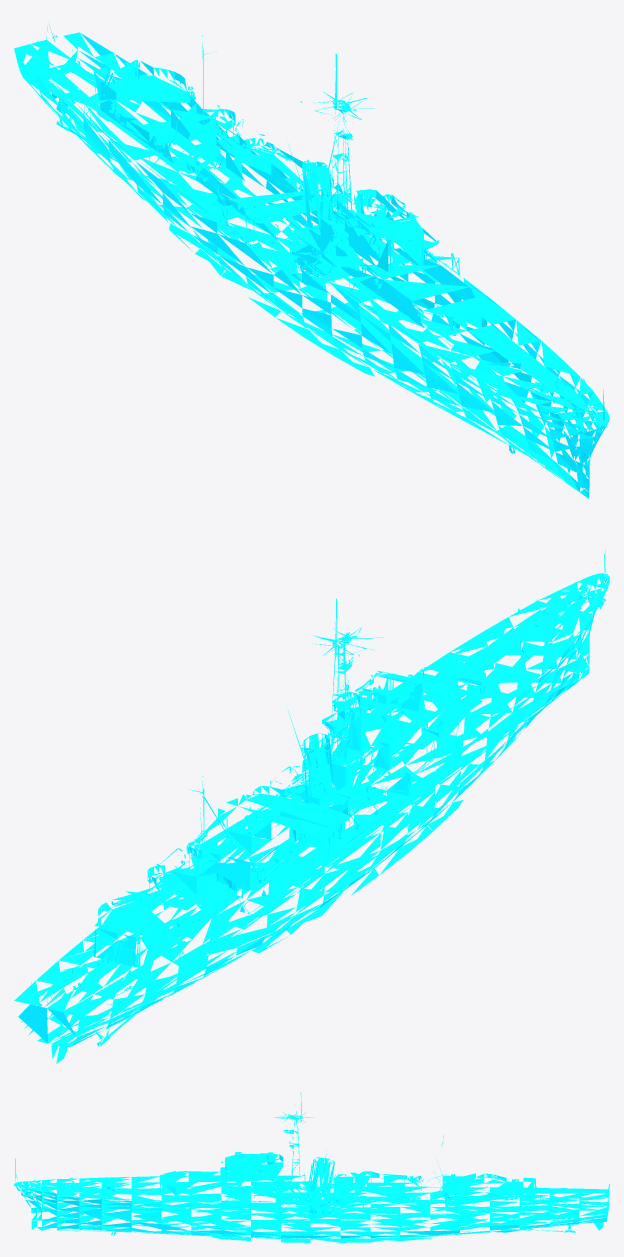
Rendered from Druid.glb.
3 renders of one model, top to bottom at view 1: azimuth 30°, elevation 25°; view 2: azimuth 150°, elevation 25°; view 3: azimuth 270°, elevation 25°, orthographic. The views are drawn at different scales.
Size of the model in its own units: 0.9856 by 2.31 by 8.7.
